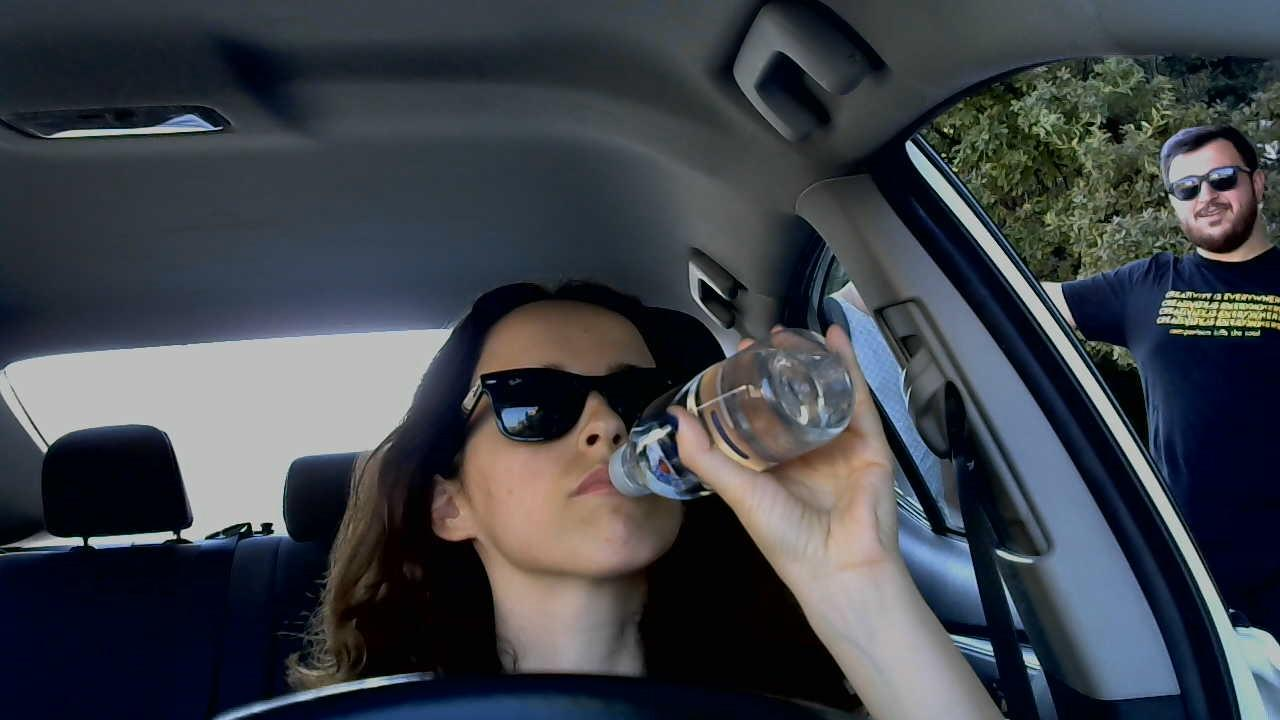Drinking: (432, 303, 895, 578)
